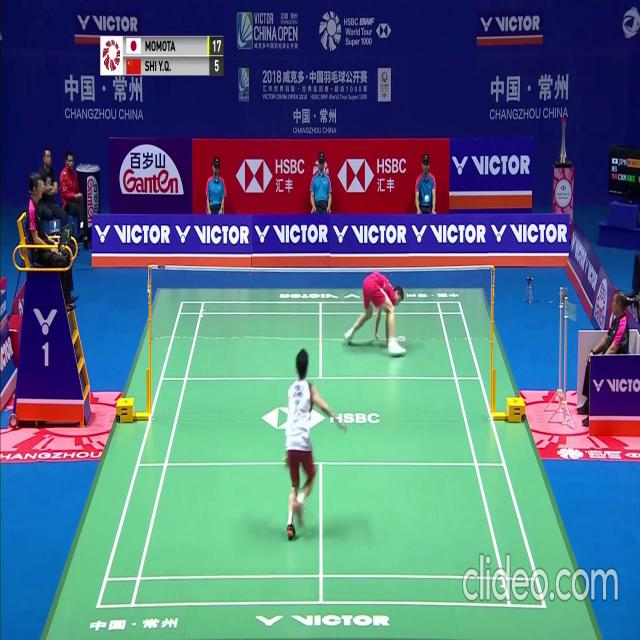Shuttlecock: (424, 194, 429, 201)
